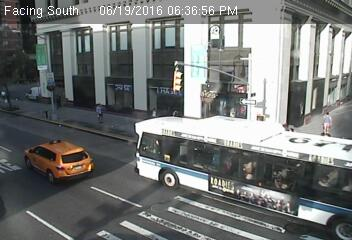neg: (44, 96, 62, 120), (238, 86, 256, 110), (1, 90, 15, 111)
pos: (317, 109, 336, 134), (89, 101, 107, 124), (150, 106, 158, 117), (170, 105, 178, 116)
